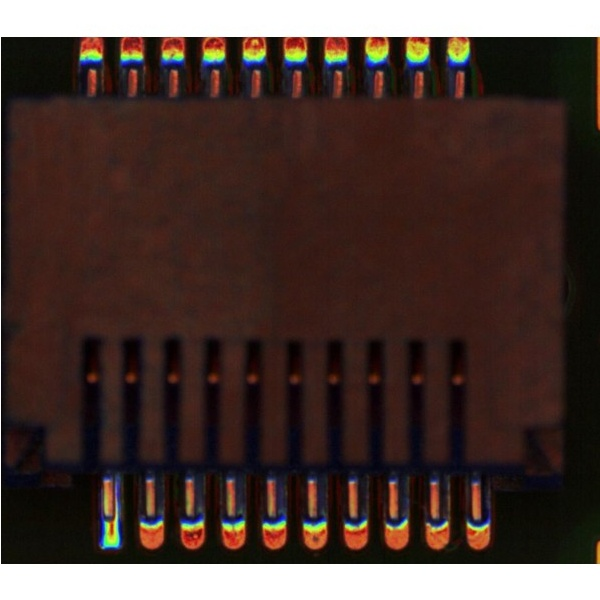Bad_qiaojiao: (113, 478, 119, 518)
